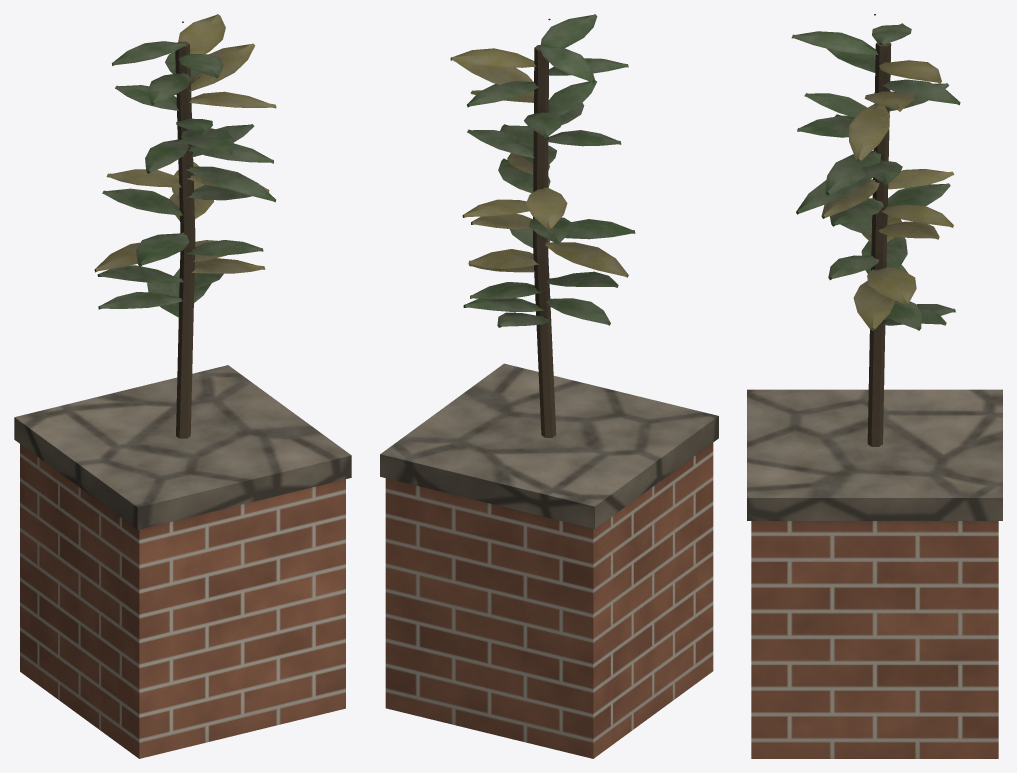
The model's file is H_Planter.fbx.
The picture shows the model from 3 angles, left to right: view 1: azimuth 30°, elevation 25°; view 2: azimuth 150°, elevation 25°; view 3: azimuth 270°, elevation 25°; orthographic projection. The views are drawn at different scales.
Visible parts, largest first — view 1: H_Planter__H_Planter, H_Planter__H_Planter_Tree; view 2: H_Planter__H_Planter, H_Planter__H_Planter_Tree; view 3: H_Planter__H_Planter, H_Planter__H_Planter_Tree.
Boxes of the visible parts, x1,y1,x2,y2 form: H_Planter__H_Planter: (14,365,351,758); H_Planter__H_Planter_Tree: (94,14,276,438); H_Planter__H_Planter: (380,363,718,758); H_Planter__H_Planter_Tree: (450,14,635,437); H_Planter__H_Planter: (747,389,1002,758); H_Planter__H_Planter_Tree: (791,14,960,446).
Bounding box in the file's own units: 300 × 895 × 300.
1 material, 1 textured.
